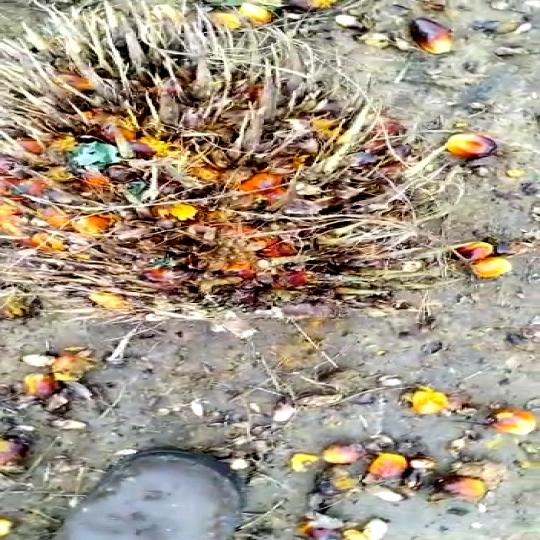terlalu masak: (0, 14, 445, 326)
